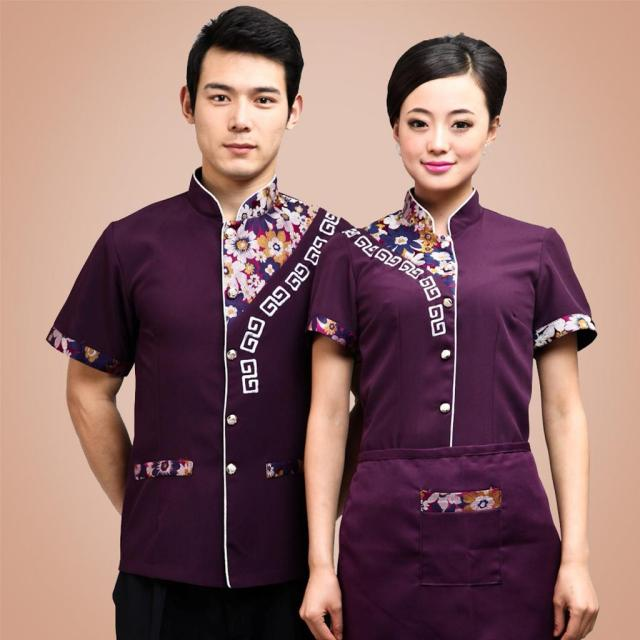nomask: (194, 49, 290, 171), (400, 79, 489, 190)
